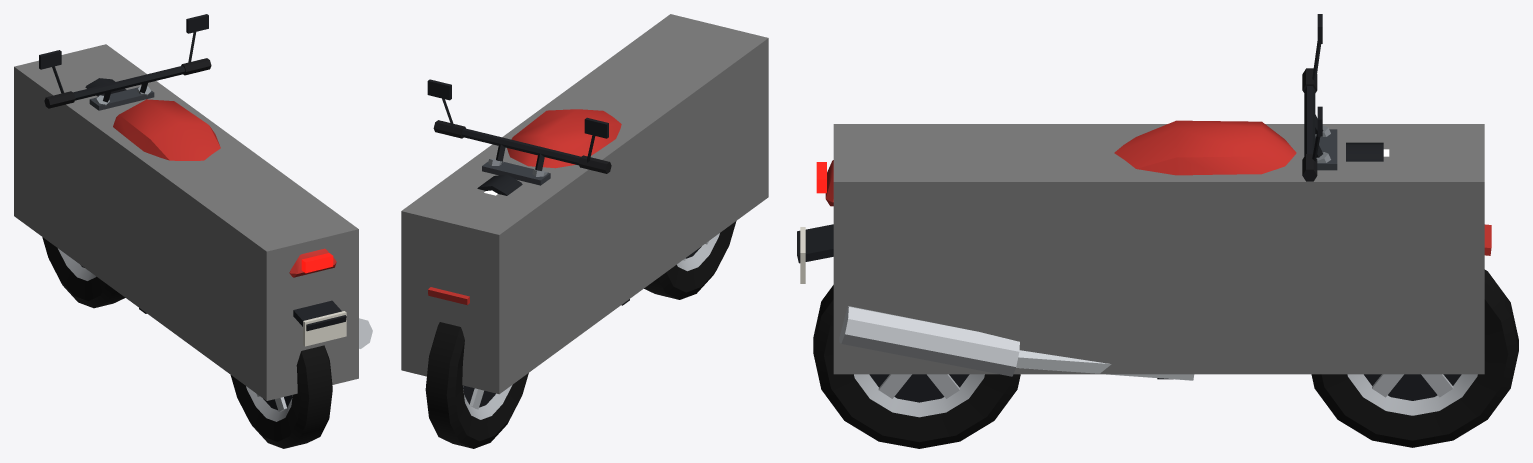
File: motorcycle.glb
3 renders of one model, left to right at view 1: azimuth 30°, elevation 25°; view 2: azimuth 150°, elevation 25°; view 3: azimuth 270°, elevation 25°, orthographic. The views are drawn at different scales.
Visible parts, largest first — view 1: motorcycle, motorcycle_Body, motorcycle_Wheel_R, motorcycle_Steer, motorcycle_Wheel_F; view 2: motorcycle, motorcycle_Wheel_F, motorcycle_Steer, motorcycle_Body, motorcycle_Wheel_R; view 3: motorcycle, motorcycle_Body, motorcycle_Wheel_F, motorcycle_Wheel_R, motorcycle_Steer.
Boxes of the visible parts, left/top/right/bottom form: motorcycle: left=14, top=44, right=358, bottom=400; motorcycle_Body: left=113, top=99, right=372, bottom=348; motorcycle_Wheel_R: left=230, top=345, right=332, bottom=448; motorcycle_Steer: left=39, top=14, right=211, bottom=110; motorcycle_Wheel_F: left=42, top=237, right=125, bottom=308; motorcycle: left=401, top=14, right=768, bottom=394; motorcycle_Wheel_F: left=425, top=322, right=528, bottom=448; motorcycle_Steer: left=427, top=79, right=611, bottom=305; motorcycle_Body: left=507, top=109, right=629, bottom=305; motorcycle_Wheel_R: left=644, top=221, right=736, bottom=299; motorcycle: left=833, top=124, right=1484, bottom=374; motorcycle_Body: left=797, top=120, right=1296, bottom=380; motorcycle_Wheel_F: left=1311, top=269, right=1518, bottom=447; motorcycle_Wheel_R: left=813, top=285, right=1020, bottom=448; motorcycle_Steer: left=1302, top=14, right=1491, bottom=255.
Size of what is drawn, in the model's own units: 0.73 by 1.21 by 2.11.
